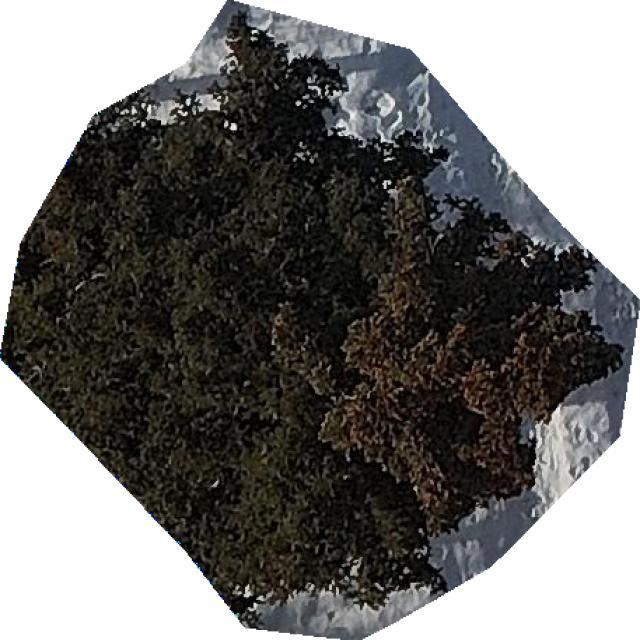pine: (0, 6, 623, 628)
